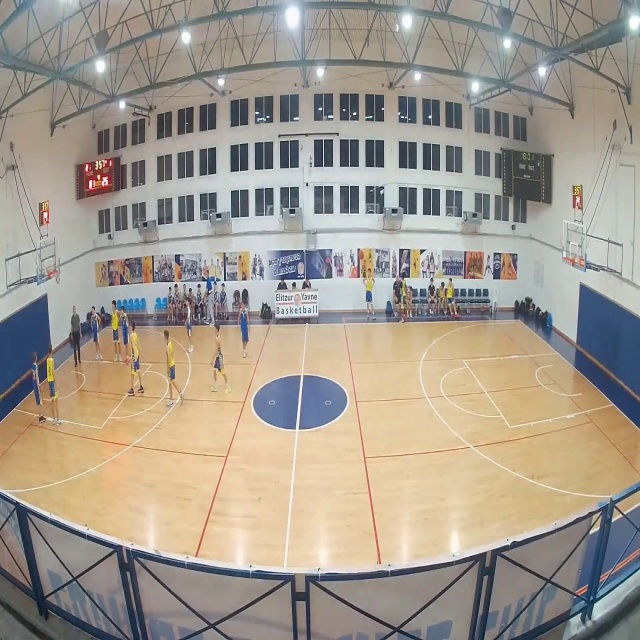Basketball: (123, 356, 130, 364)
